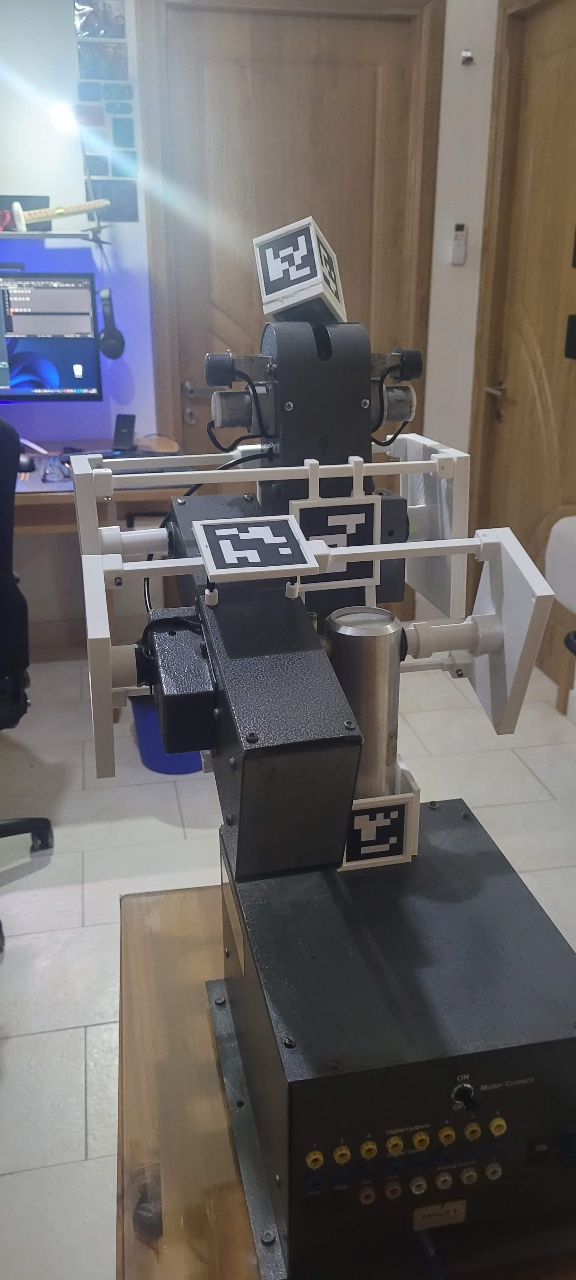Robot: (69, 216, 557, 888)
